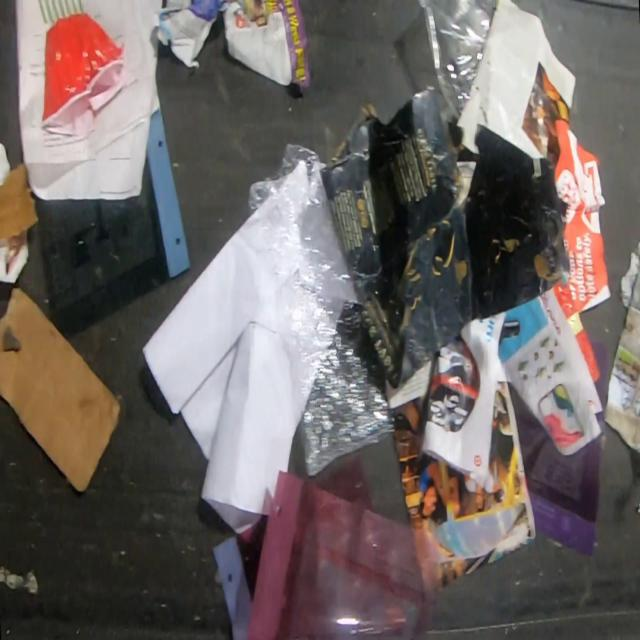cardboard: (323, 90, 572, 393), (0, 286, 123, 494), (0, 158, 40, 240)
rigid_plastic: (41, 12, 126, 138), (414, 0, 494, 130)
soft_plastic: (246, 141, 397, 477), (32, 106, 192, 338), (242, 464, 439, 640), (210, 512, 268, 639), (319, 454, 374, 510)
